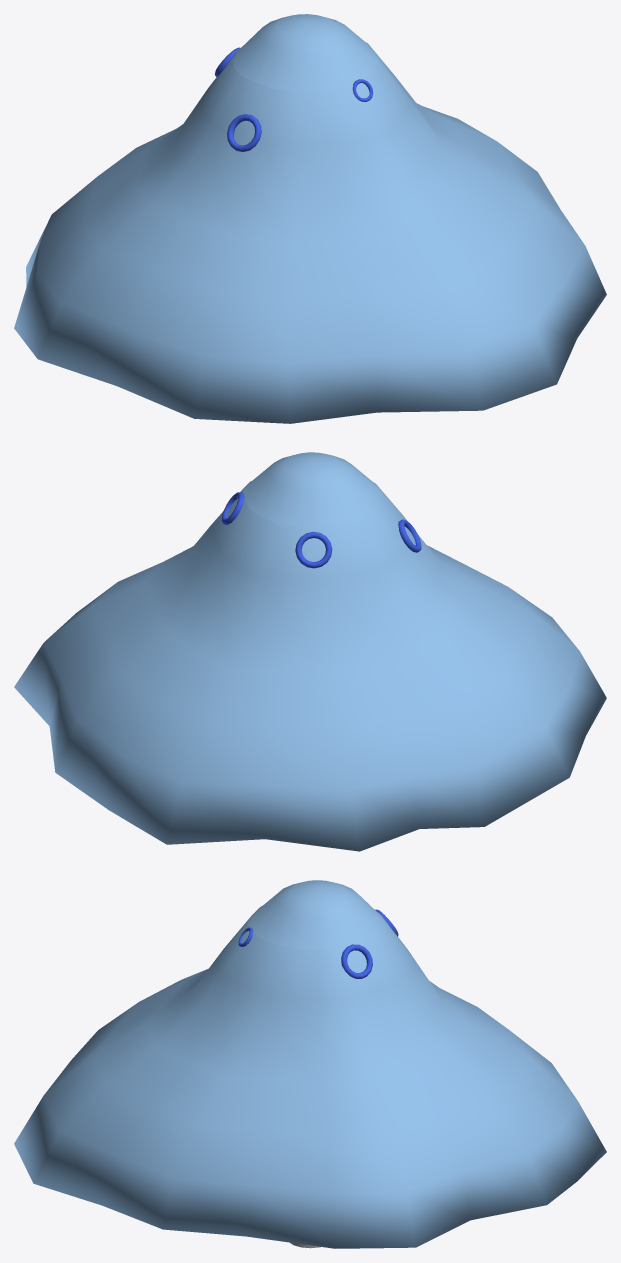
Rendered from plant_04_Sporenpilz_state00.gltf.
The picture shows the model from 3 angles, top to bottom: view 1: azimuth 30°, elevation 25°; view 2: azimuth 150°, elevation 25°; view 3: azimuth 270°, elevation 25°; orthographic projection. The views are drawn at different scales.
Visible parts, largest first — view 1: Cone; view 2: Cone; view 3: Cone.
Boxes of the visible parts, x1=… form: Cone: x1=14, y1=14, x2=606, y2=423; Cone: x1=14, y1=452, x2=606, y2=851; Cone: x1=14, y1=880, x2=606, y2=1248.
Size of the model in its own units: 0.4475 by 0.3087 by 0.4697.
